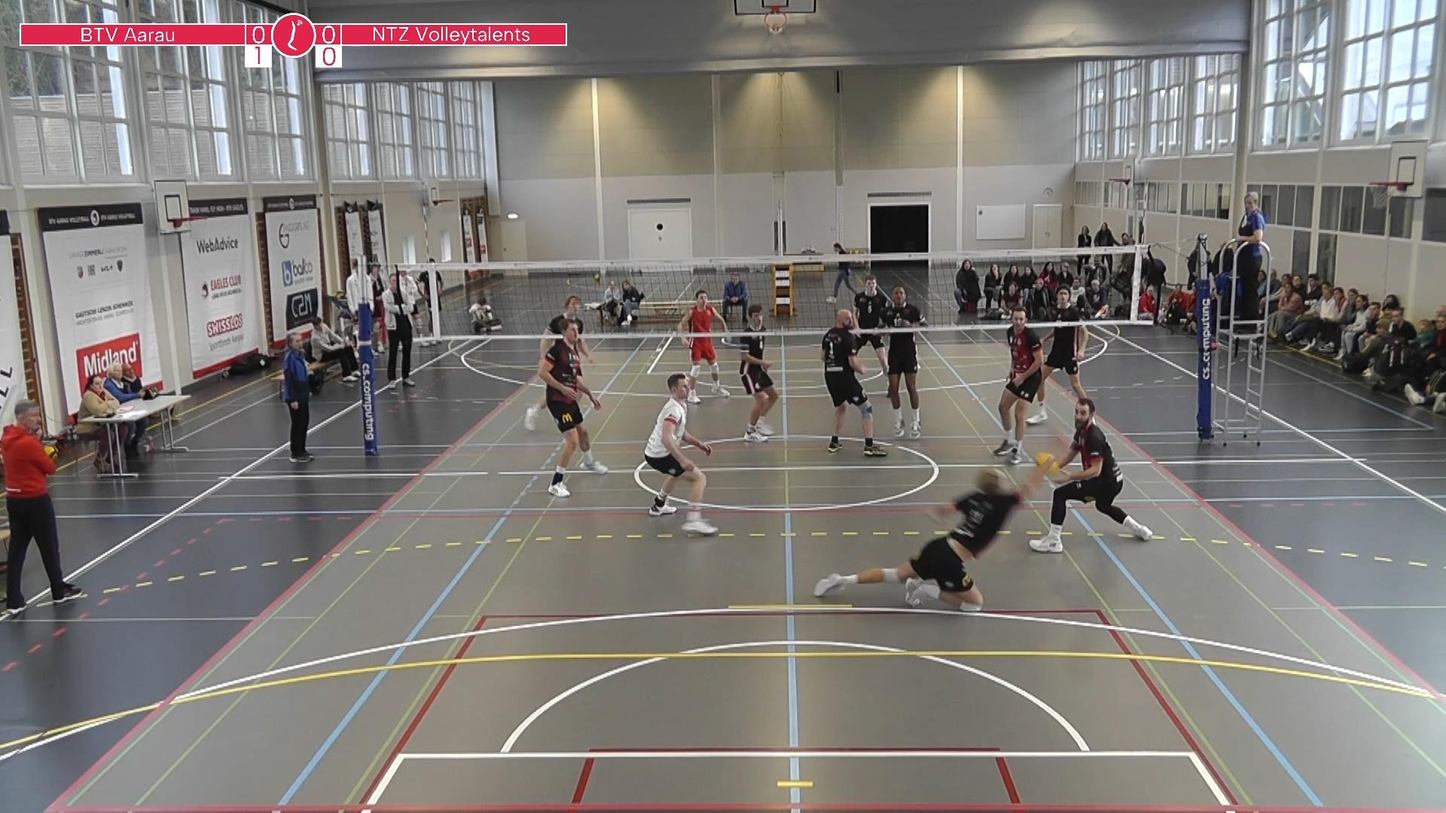Dig: (809, 454, 1044, 614)
Player: (1030, 398, 1152, 552), (538, 320, 607, 497), (644, 373, 716, 534), (822, 310, 886, 456), (1027, 288, 1088, 425), (994, 309, 1042, 464), (886, 286, 924, 438), (740, 305, 778, 442), (539, 296, 593, 363), (854, 275, 890, 370), (686, 336, 730, 403)
ball: (1029, 448, 1059, 478)
